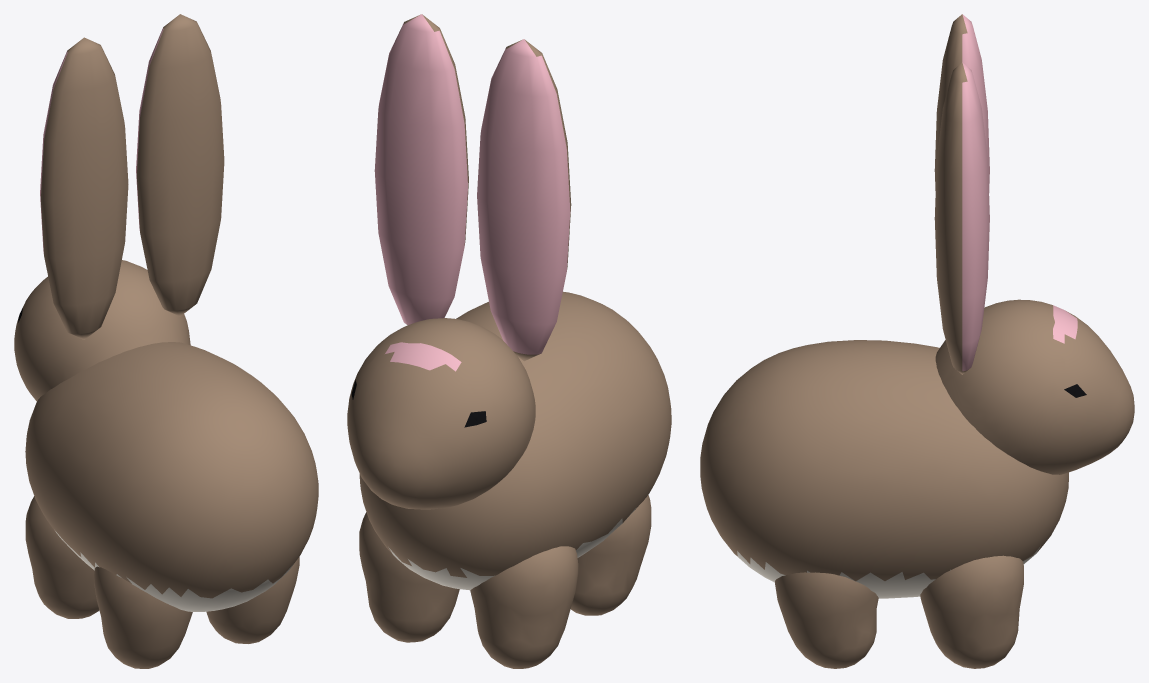
Rendered from animal_rabbit.glb.
The picture shows the model from 3 angles, left to right: view 1: azimuth 30°, elevation 25°; view 2: azimuth 150°, elevation 25°; view 3: azimuth 270°, elevation 25°; orthographic projection. The views are drawn at different scales.
Visible parts, largest first — view 1: Body, Head, LegBL, LegFL, LegBR; view 2: Head, Body, LegFL, LegFR, LegBL; view 3: Body, Head, LegFR, LegBR.
Boxes of the visible parts, left/top/right/bottom form: Body: left=25, top=342, right=318, bottom=611; Head: left=14, top=14, right=224, bottom=401; LegBL: left=94, top=566, right=192, bottom=668; LegFL: left=25, top=496, right=99, bottom=618; LegBR: left=206, top=557, right=299, bottom=643; Head: left=347, top=14, right=571, bottom=509; Body: left=359, top=291, right=671, bottom=590; LegFL: left=470, top=546, right=578, bottom=668; LegFR: left=359, top=512, right=459, bottom=642; LegBL: left=570, top=495, right=651, bottom=615; Body: left=700, top=340, right=1068, bottom=598; Head: left=934, top=14, right=1134, bottom=474; LegFR: left=920, top=555, right=1023, bottom=668; LegBR: left=775, top=572, right=878, bottom=668.
Bounding box in the file's own units: 0.3825 × 0.981 × 0.6423.
